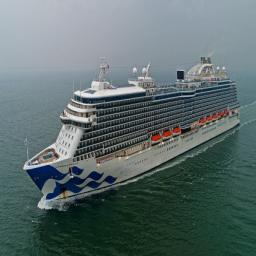cruises: (21, 44, 243, 200)
